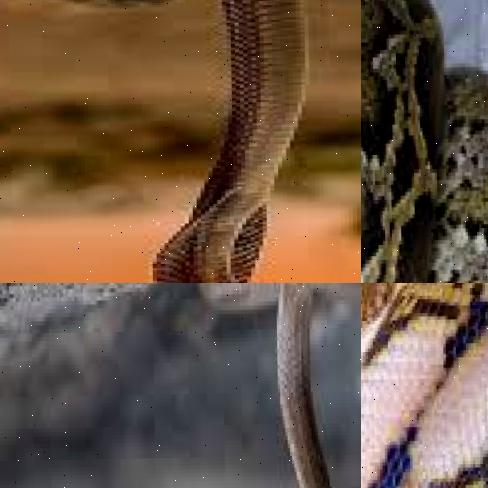snake: (0, 0, 361, 283), (205, 283, 361, 488), (361, 283, 488, 488)
